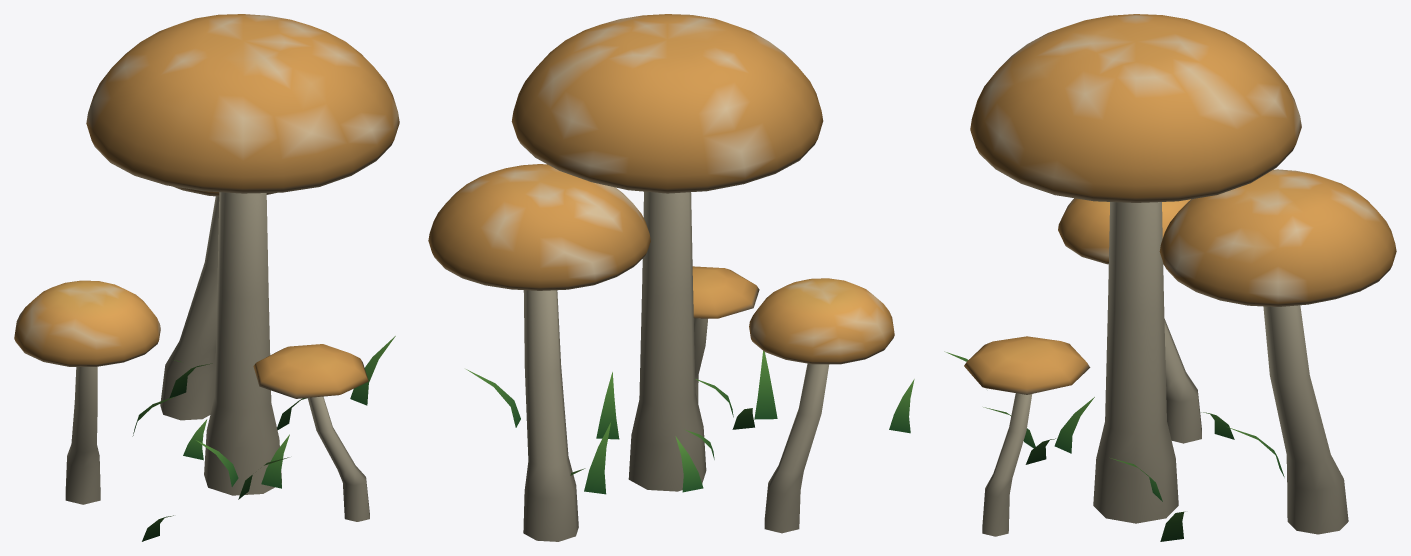
File: mush_tan.glb
3 renders of one model, left to right at view 1: azimuth 30°, elevation 25°; view 2: azimuth 150°, elevation 25°; view 3: azimuth 270°, elevation 25°, orthographic. The views are drawn at different scales.
Parts seen in each view (by area): view 1: mush_tan; view 2: mush_tan; view 3: mush_tan.
Part boxes in pixels (bbox=[...]): mush_tan: bbox=[14, 14, 399, 541]; mush_tan: bbox=[428, 14, 914, 541]; mush_tan: bbox=[944, 14, 1396, 541].
Bounding box in the file's own units: 0.3927 × 0.4127 × 0.3655.
